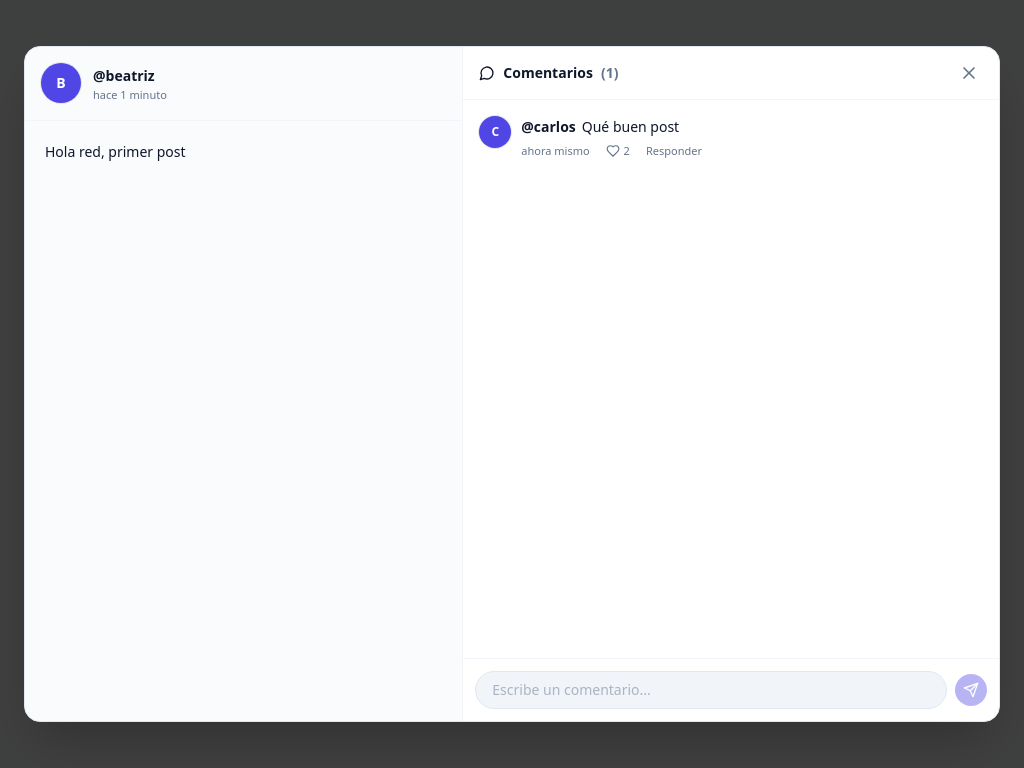
ComentariosModal › da like optimista y adopta el total del servidor
Expected: the text "Qué buen post" is shown, [582, 117, 679, 136]
Click the button named "Me gusta" at point(618, 151), box [606, 143, 630, 159]
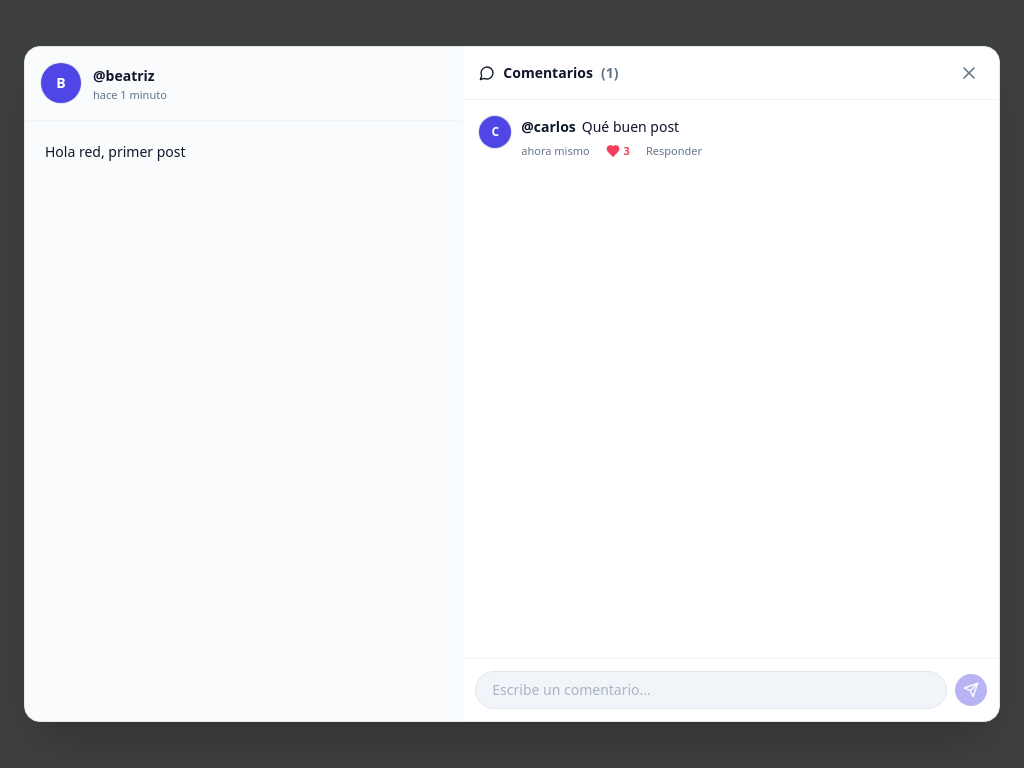
Result: the button named "Quitar Me Gusta" is shown at [606, 143, 630, 159]
Result: the text "3" is shown at [624, 143, 630, 159]
